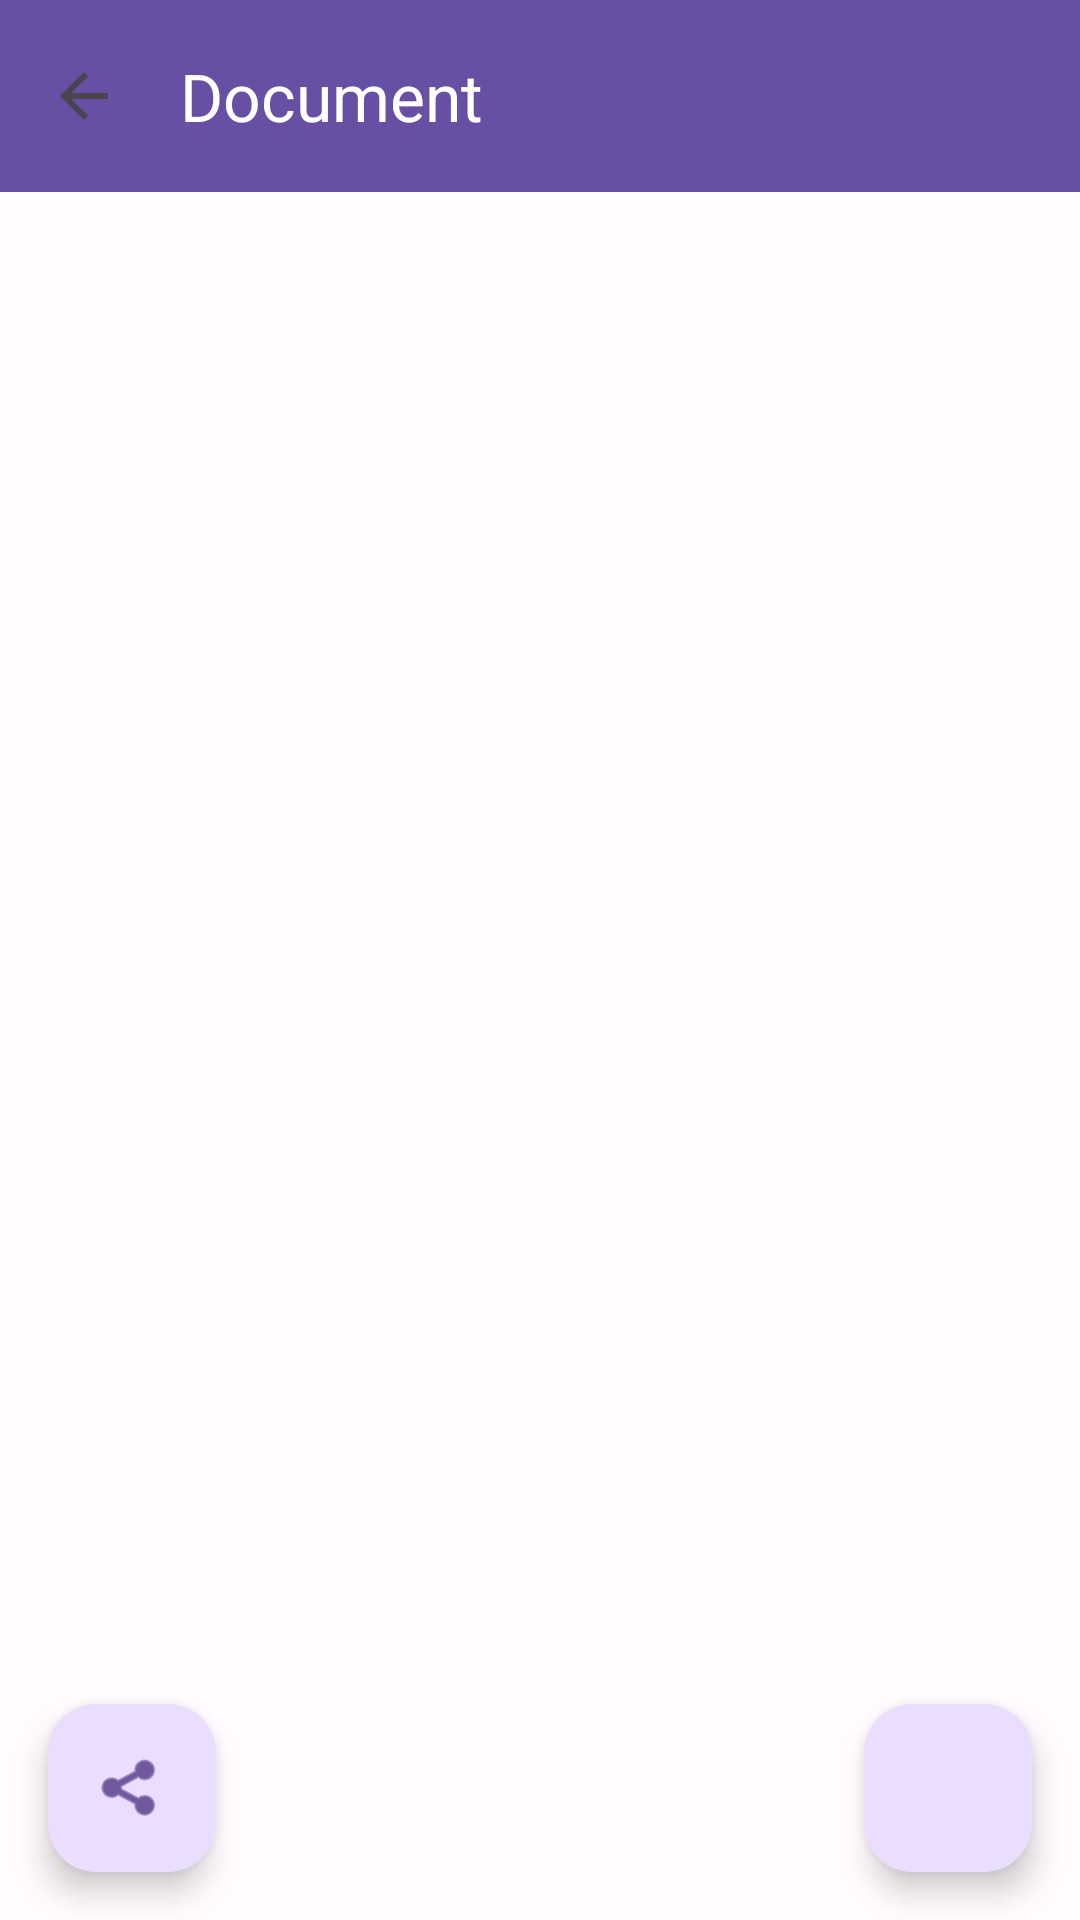

Icon bounding boxes for this 1080px x 1920px phone screenshot, format (x1, y1, x2, y2):
share: (48, 1704, 216, 1872)
